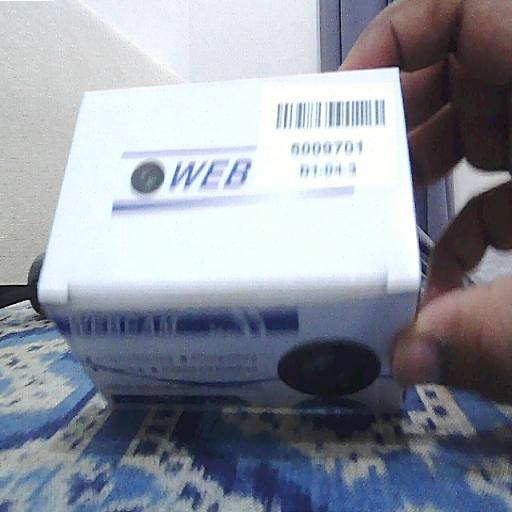webcam_box: (26, 70, 424, 416)
